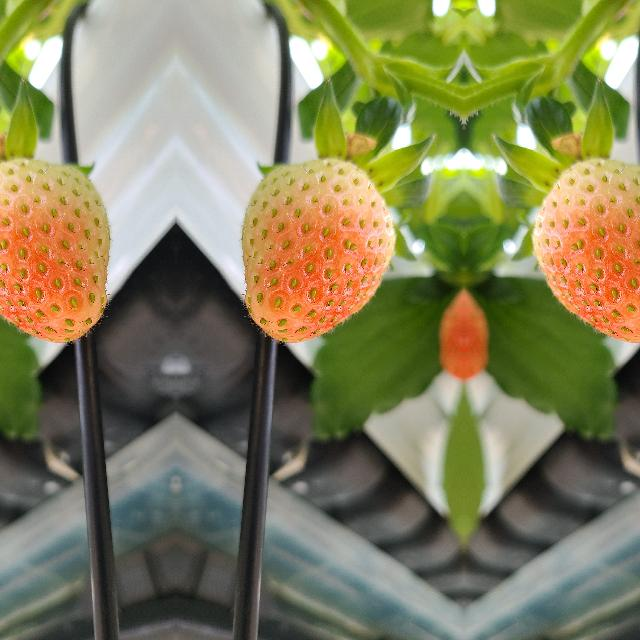Health_50: (238, 156, 396, 347), (0, 155, 112, 346), (530, 155, 640, 346)
